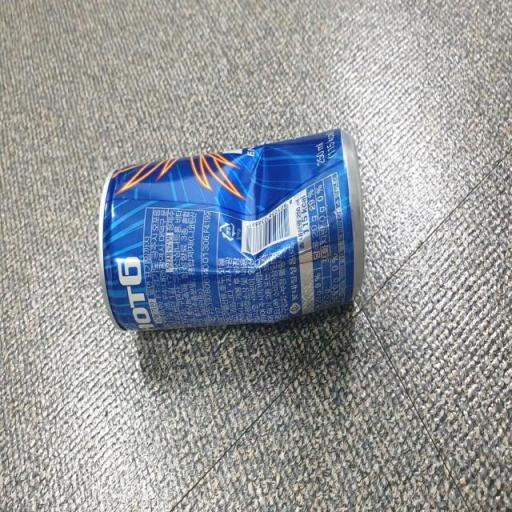metal: (86, 111, 390, 359)
